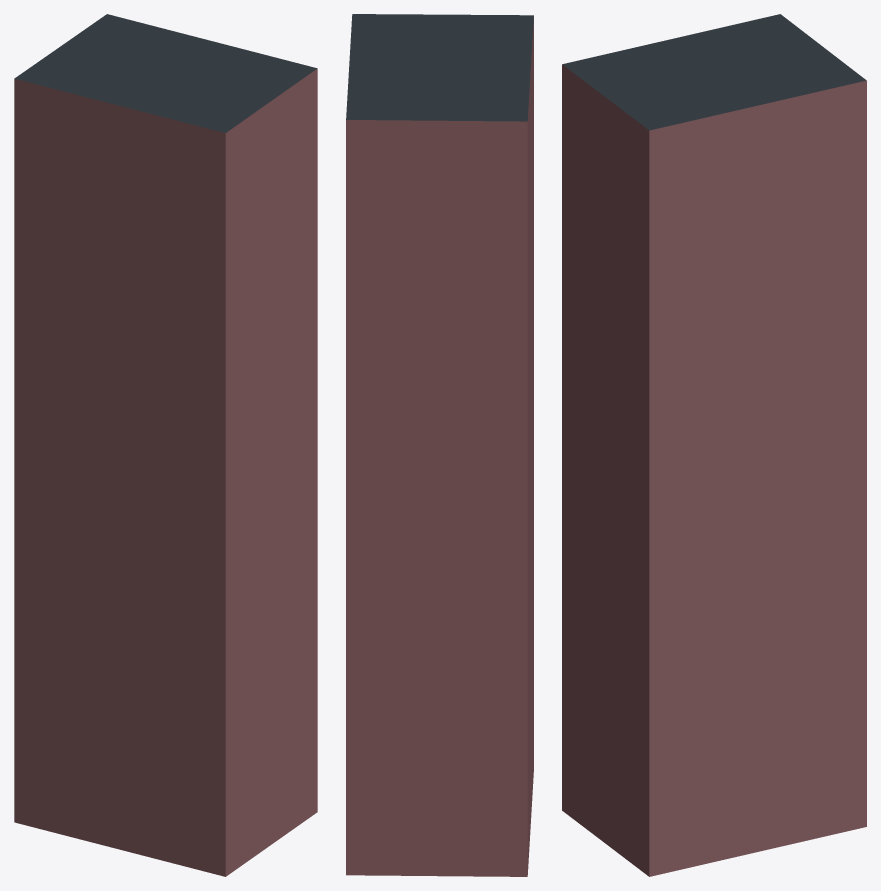
The model's file is nyc-1016048-0.glb.
The picture shows the model from 3 angles, left to right: view 1: azimuth 30°, elevation 25°; view 2: azimuth 150°, elevation 25°; view 3: azimuth 270°, elevation 25°; orthographic projection.
Visible parts, largest first — view 1: nyc-1016048-0; view 2: nyc-1016048-0; view 3: nyc-1016048-0.
Boxes of the visible parts, box(x1,y1,x2,y2) form: nyc-1016048-0: box(14, 14, 317, 876); nyc-1016048-0: box(346, 14, 533, 876); nyc-1016048-0: box(562, 14, 866, 876).
Size of the model in its own units: 29.71 by 88.69 by 32.81.
